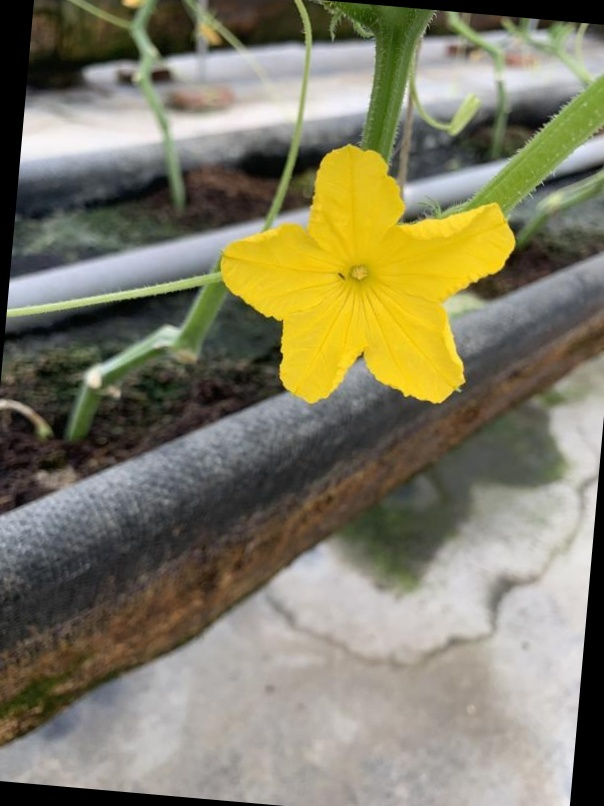mature: (212, 147, 492, 407)
